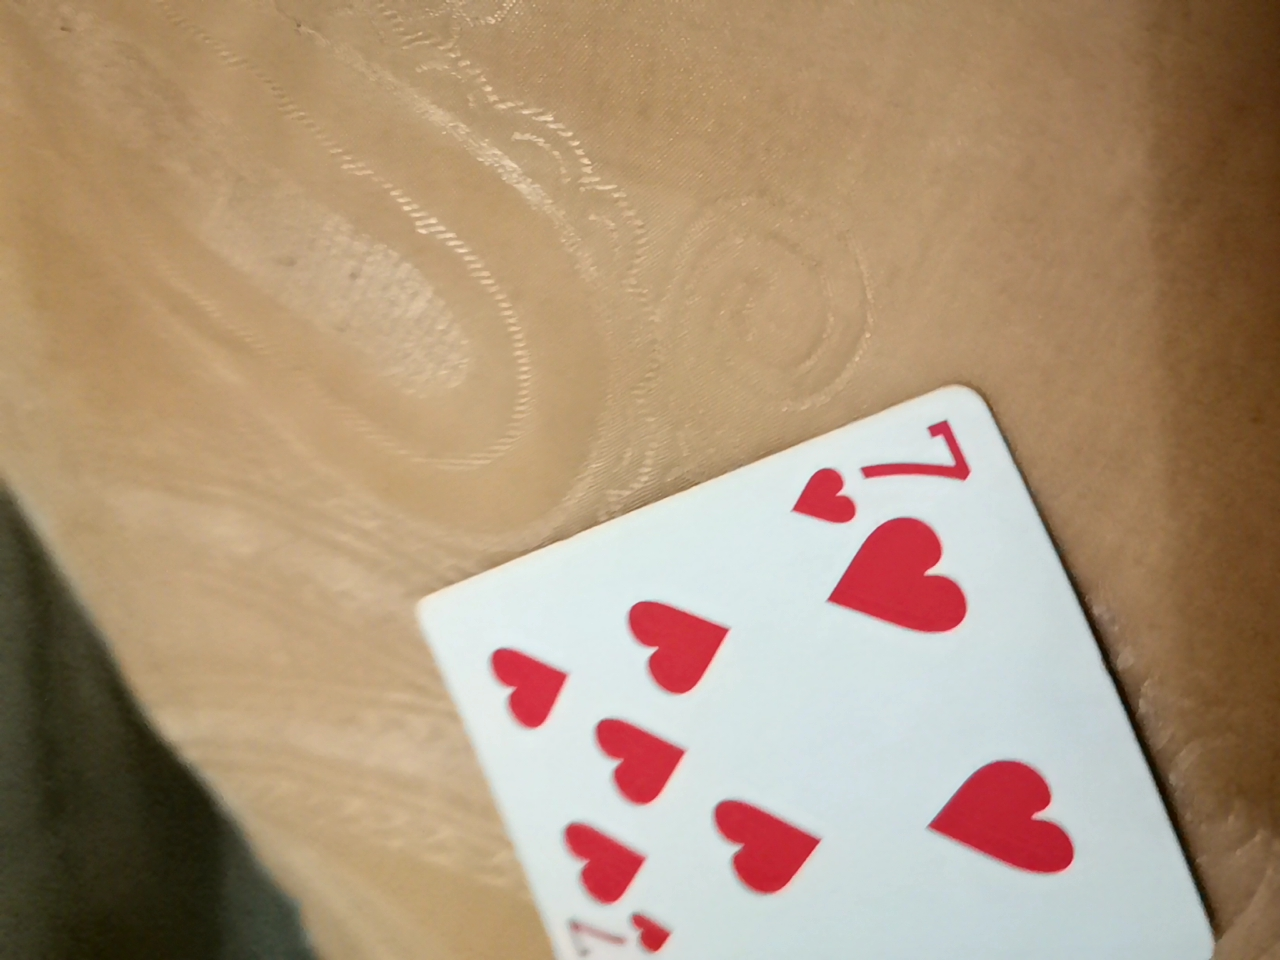hx 7: (483, 430, 1210, 952)
